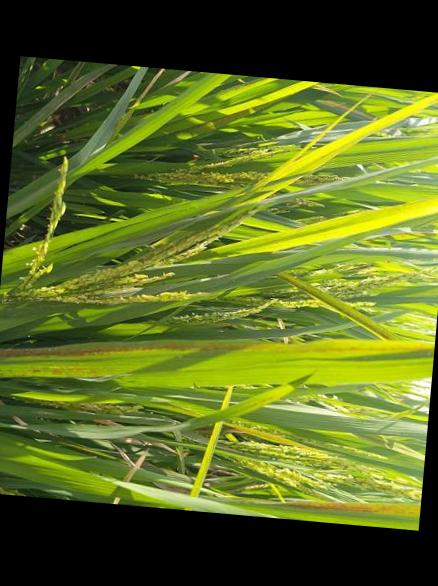Leaf Streak: (0, 341, 434, 359), (276, 274, 390, 339), (273, 496, 420, 520), (184, 107, 262, 136), (9, 363, 112, 380)
